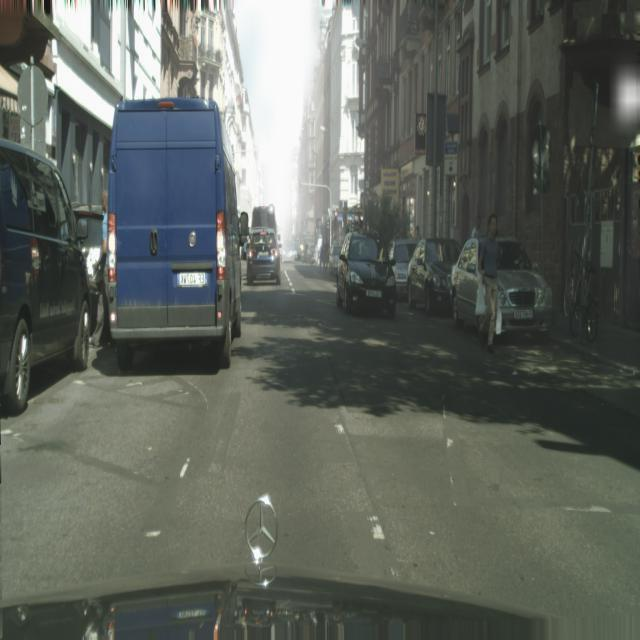car: (567, 241, 600, 341)
motorcycle: (106, 96, 243, 374)
person: (92, 191, 113, 348), (478, 214, 500, 351)
truck: (0, 138, 92, 414), (450, 235, 553, 337), (72, 202, 110, 343), (336, 232, 397, 318), (406, 237, 461, 316), (246, 228, 281, 285), (388, 238, 418, 296)
